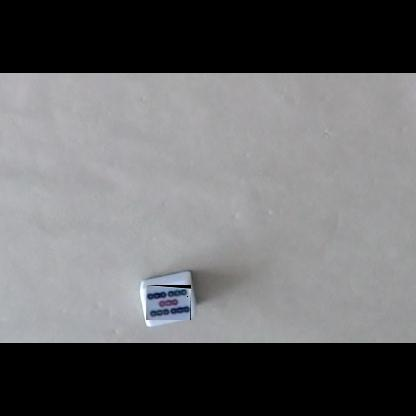5s: (146, 285, 191, 320)
